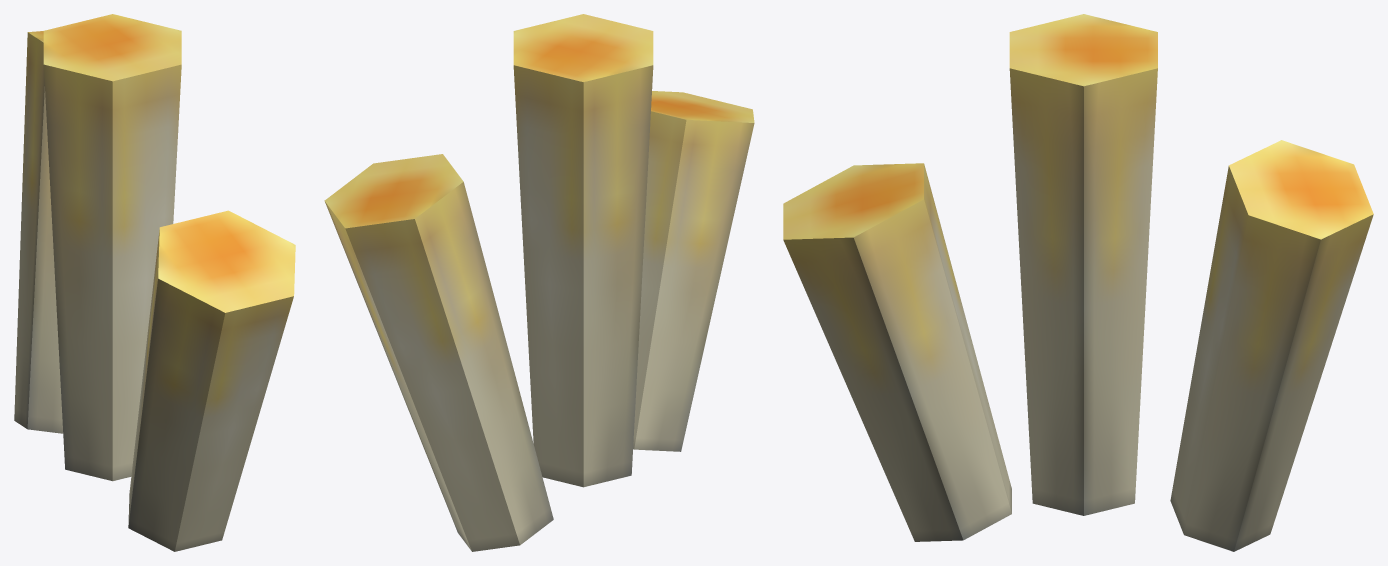
Rendered from Area_08_48.fbx.
The picture shows the model from 3 angles, left to right: view 1: azimuth 30°, elevation 25°; view 2: azimuth 150°, elevation 25°; view 3: azimuth 270°, elevation 25°; orthographic projection. The views are drawn at different scales.
Visible parts, largest first — view 1: Area_08_48; view 2: Area_08_48; view 3: Area_08_48.
Boxes of the visible parts, x1,y1,x2,y2 form: Area_08_48: [14, 14, 295, 551]; Area_08_48: [324, 14, 754, 551]; Area_08_48: [783, 14, 1373, 551].
Size of the model in its own units: 15.17 by 29.94 by 33.7.
